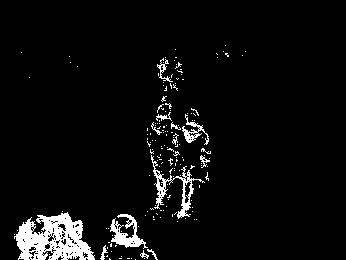person: (174, 106, 212, 220), (147, 100, 178, 213)
